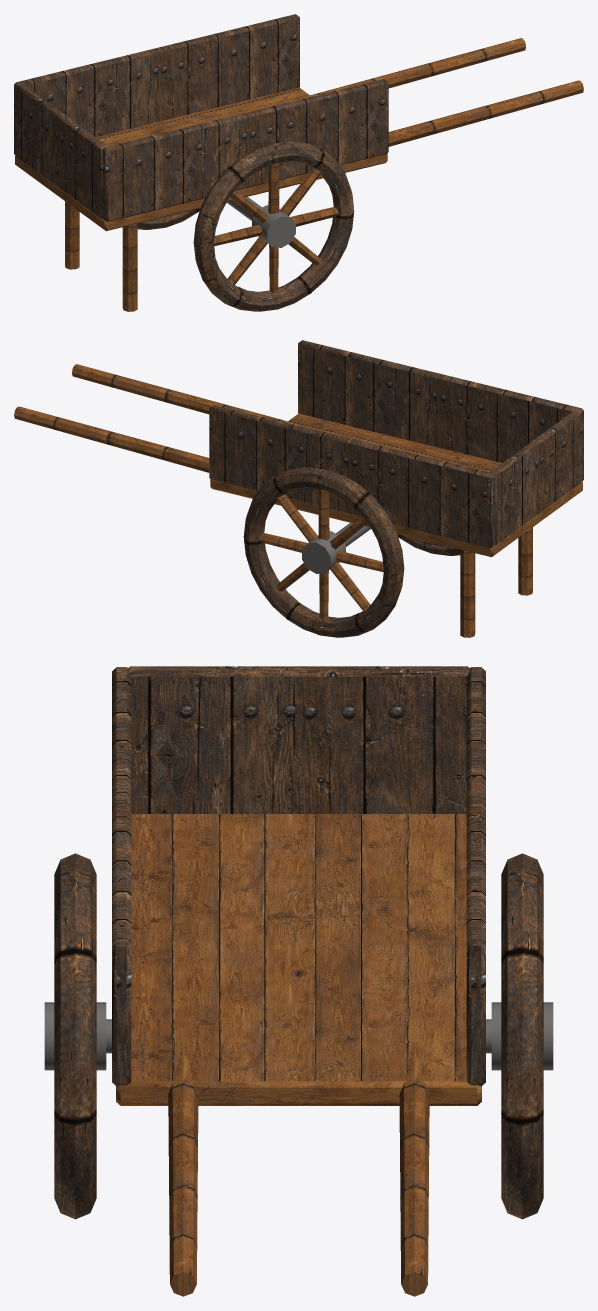
File: handcart-v01.glb
3 renders of one model, top to bottom at view 1: azimuth 30°, elevation 25°; view 2: azimuth 150°, elevation 25°; view 3: azimuth 270°, elevation 25°, orthographic. The views are drawn at different scales.
Parts seen in each view (by area): view 1: handcart; view 2: handcart; view 3: handcart.
Boxes of the visible parts, x1=… form: handcart: x1=14, y1=14, x2=583, y2=311; handcart: x1=14, y1=340, x2=583, y2=637; handcart: x1=44, y1=666, x2=553, y2=1296.
Bounding box in the file's own units: 2.96 × 1.1 × 1.32.
3 materials, 2 textured.
